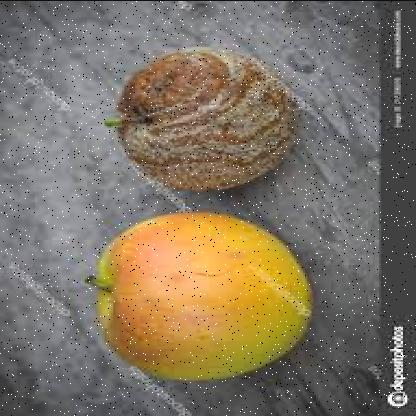apple: (104, 213, 296, 382)
damaged_apple: (113, 41, 305, 195)
